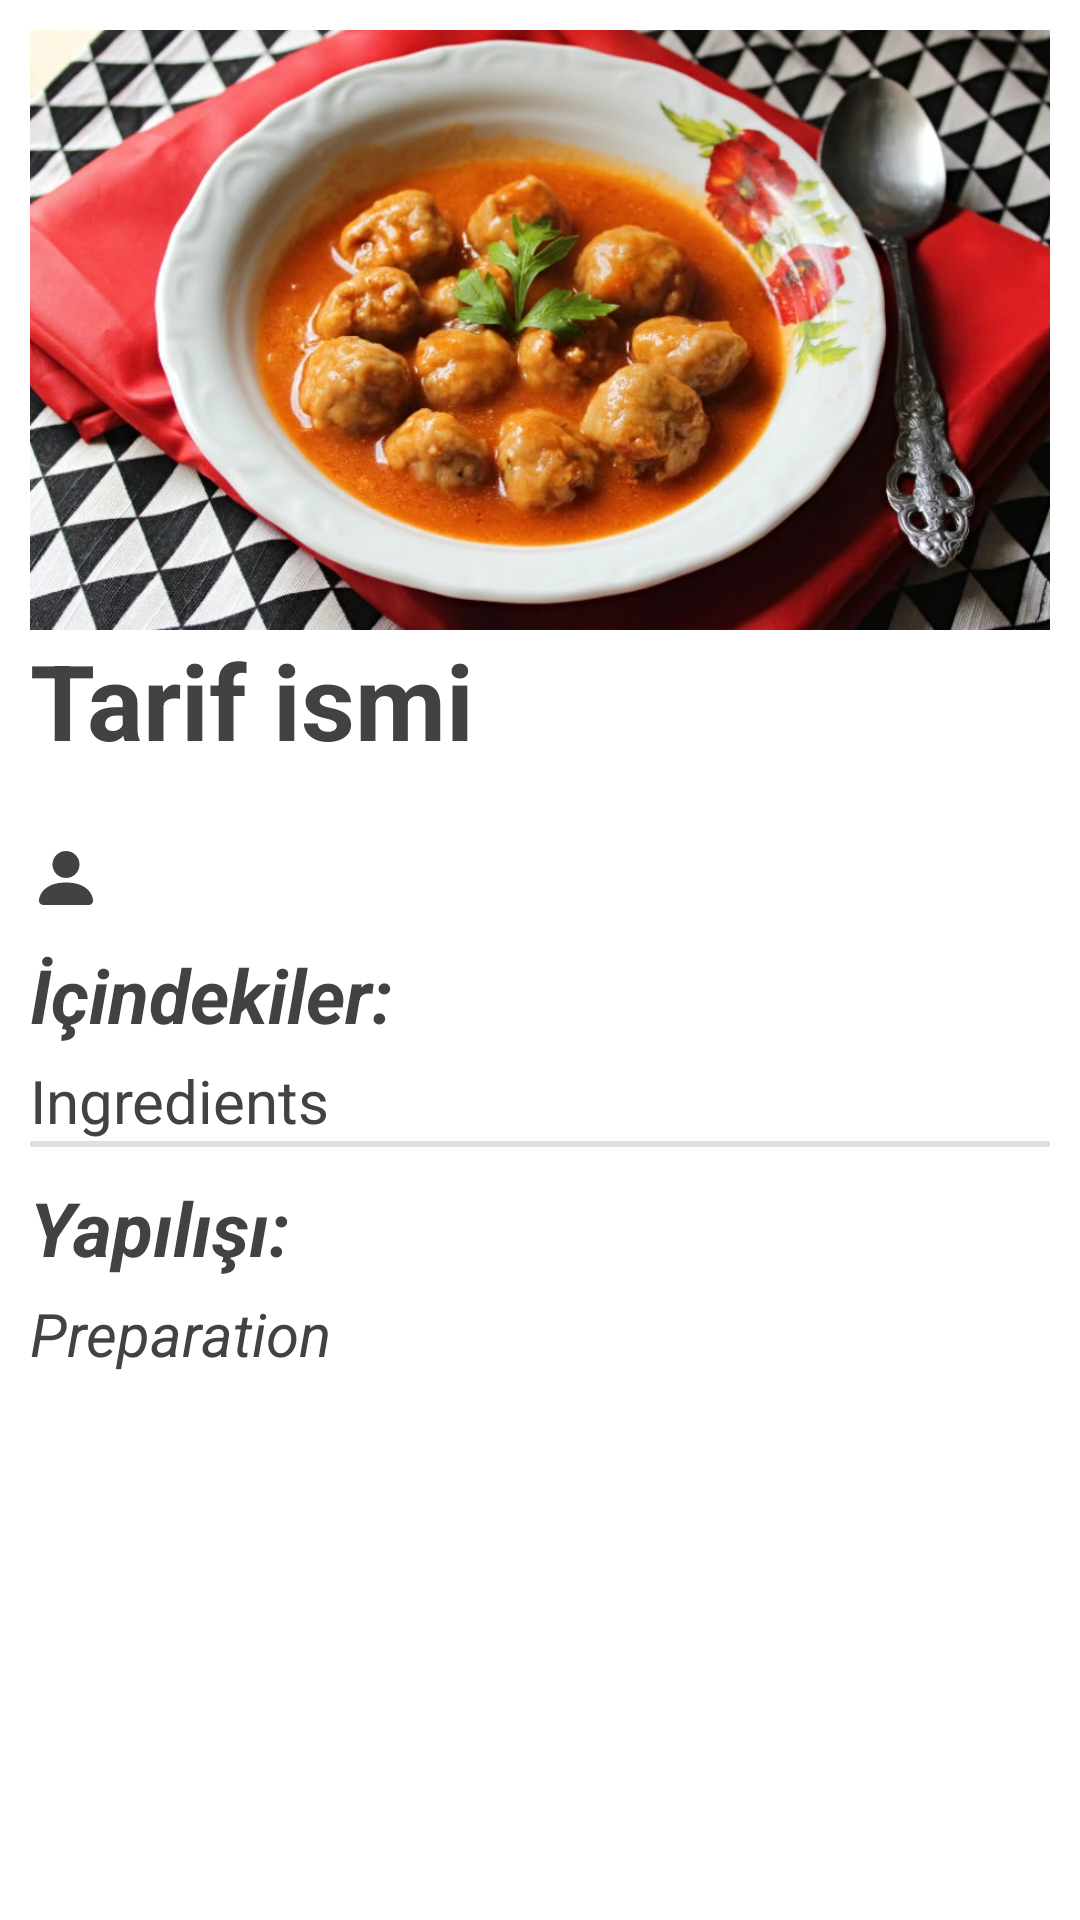

Named icons in this screenshot (1080 x 1920) and their bounding boxes, [x1=x1, y1=y1, x2=x2, y2=y2]:
person: [x1=39, y1=851, x2=93, y2=905]
